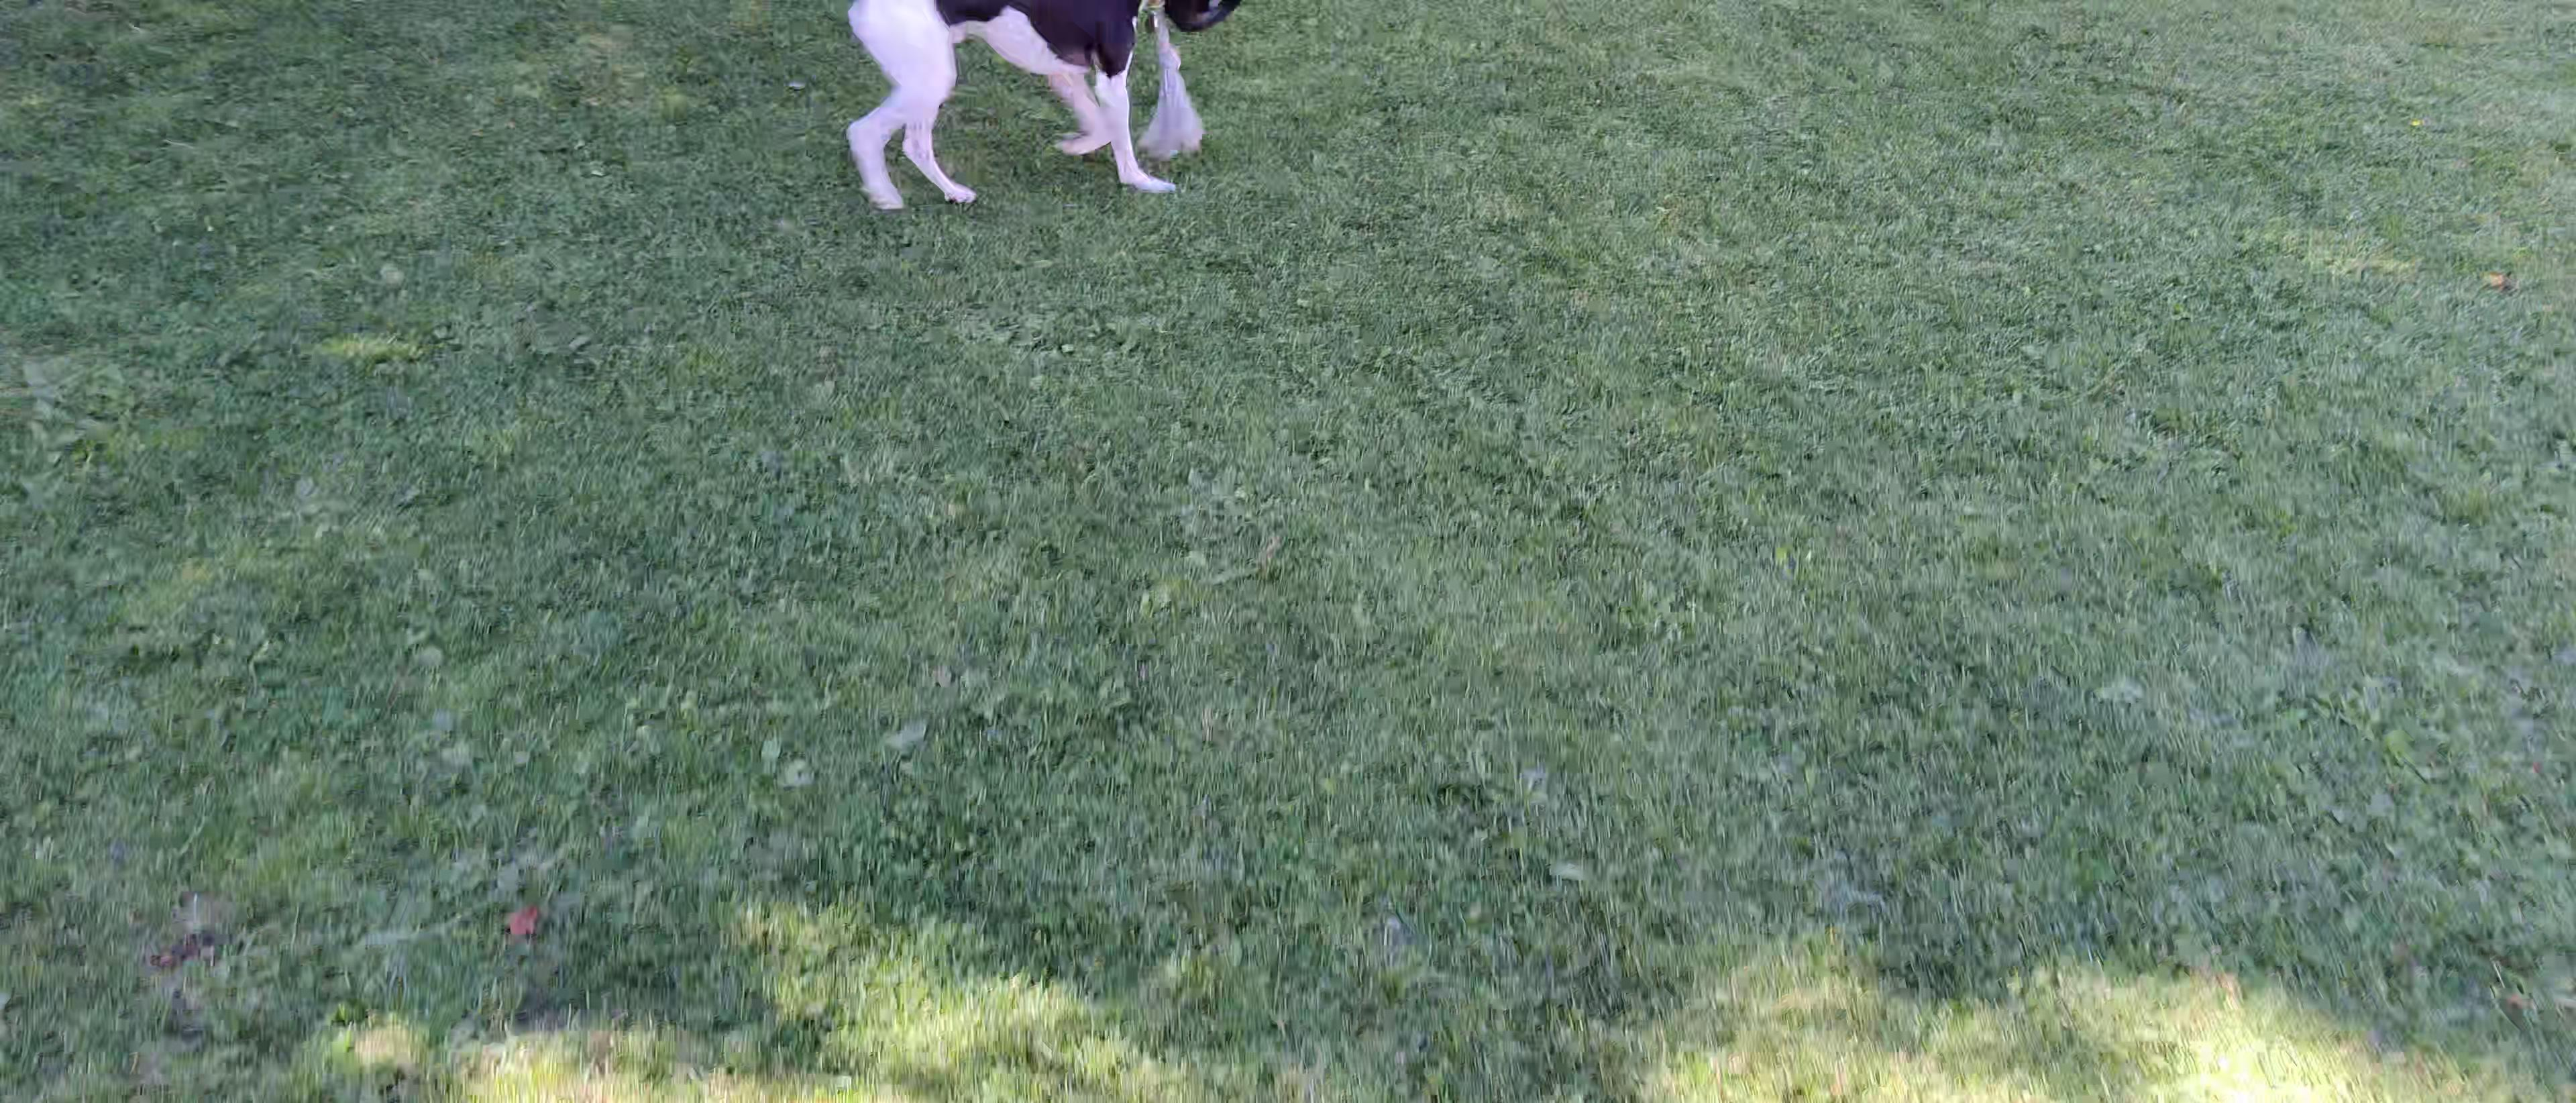Dog: (841, 0, 1175, 212)
